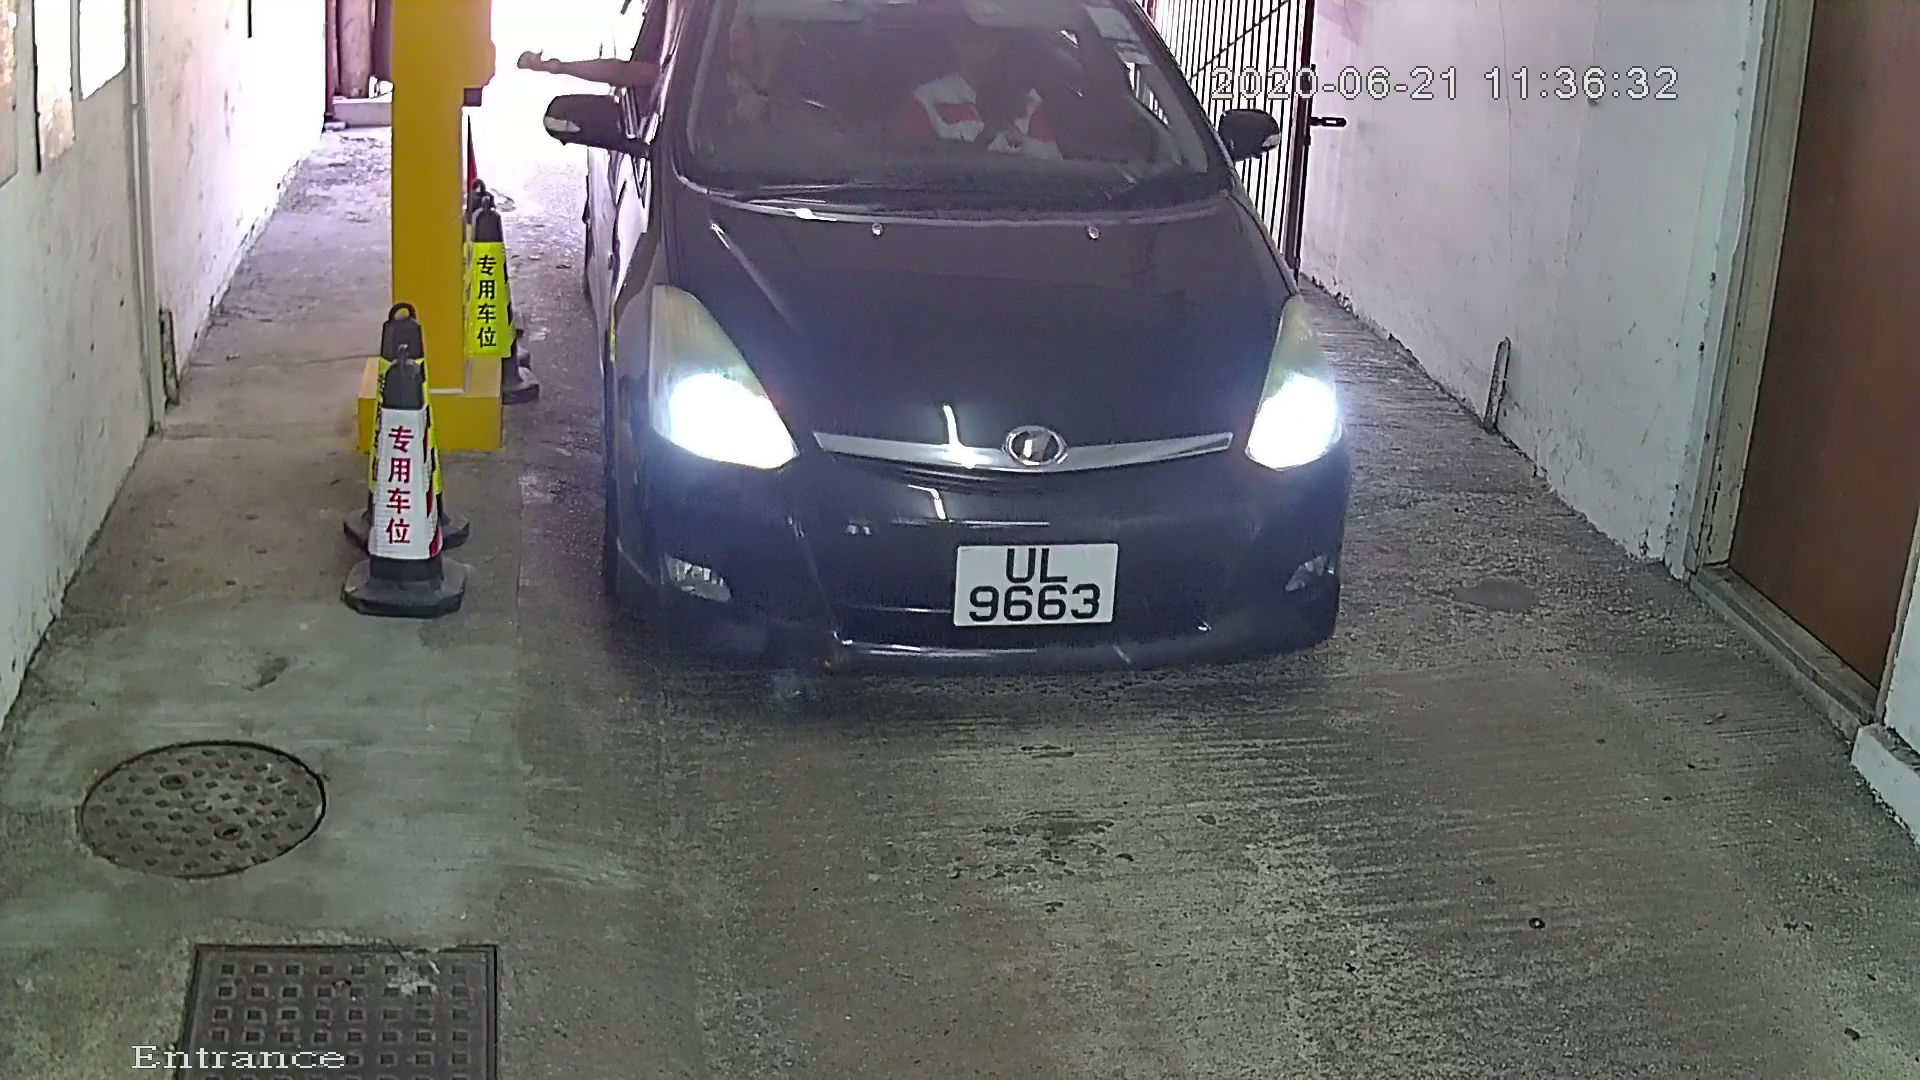privatecar: (534, 1, 1390, 746)
